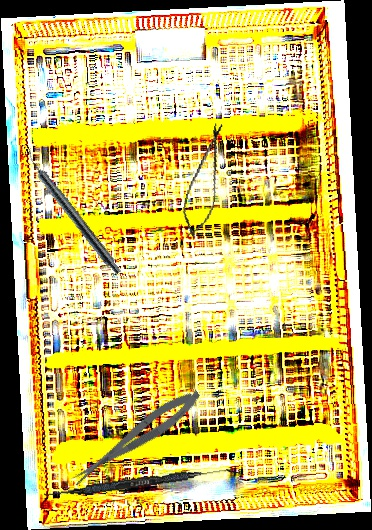Handpiece: (19, 147, 126, 277)
Micro Scissor: (64, 383, 207, 491), (177, 120, 232, 241)
Spatula Surgical: (43, 461, 238, 504)
